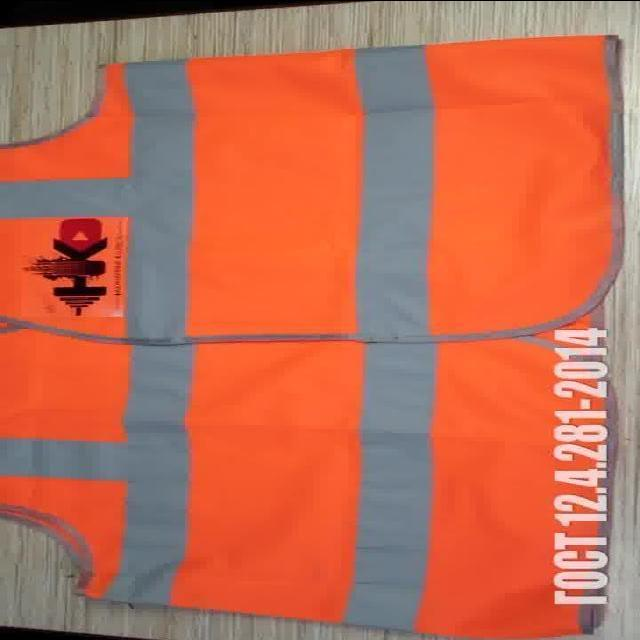vest: (0, 31, 622, 640)
